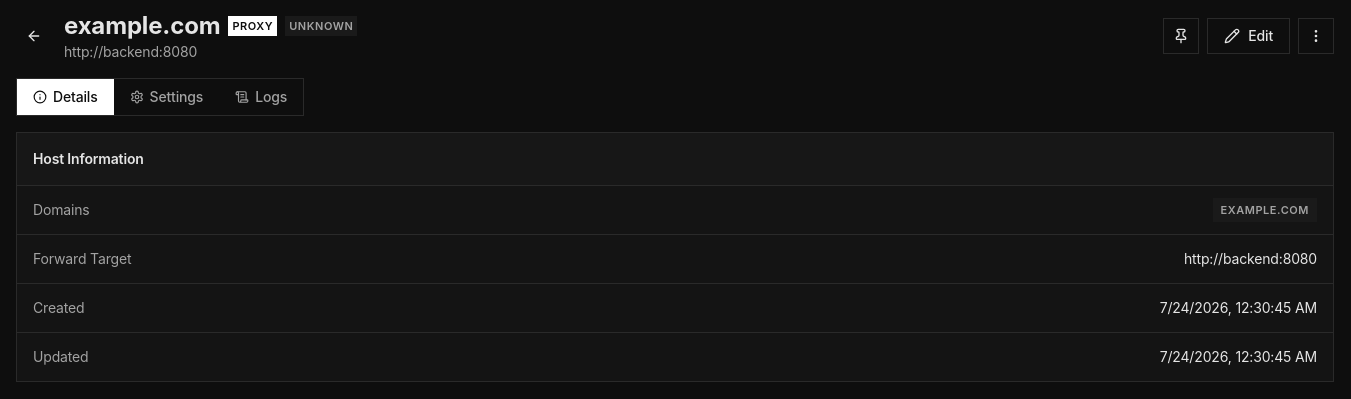
Test: ProxyHostDetail › keeps maintenance and delete actions inside the overflow menu
The image size is (1351, 399).
expect the button "Delete" is not shown: met
Click the button named "More proxy host actions".
click(1316, 36)  # box [1298, 18, 1334, 54]
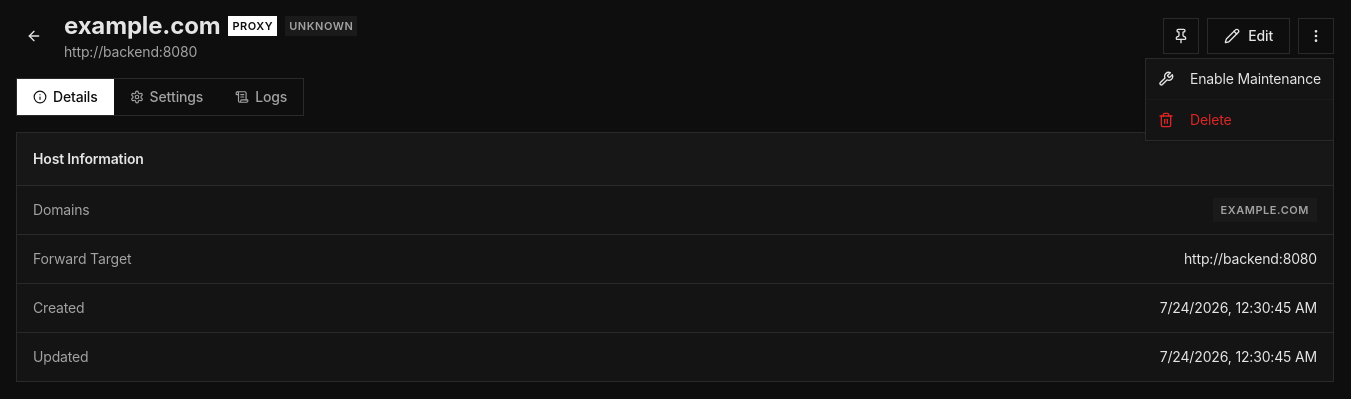
expect the menu item "Enable Maintenance" is shown: met, box [1158, 70, 1321, 87]
expect the menu item "Delete" is shown: met, box [1158, 111, 1232, 128]
